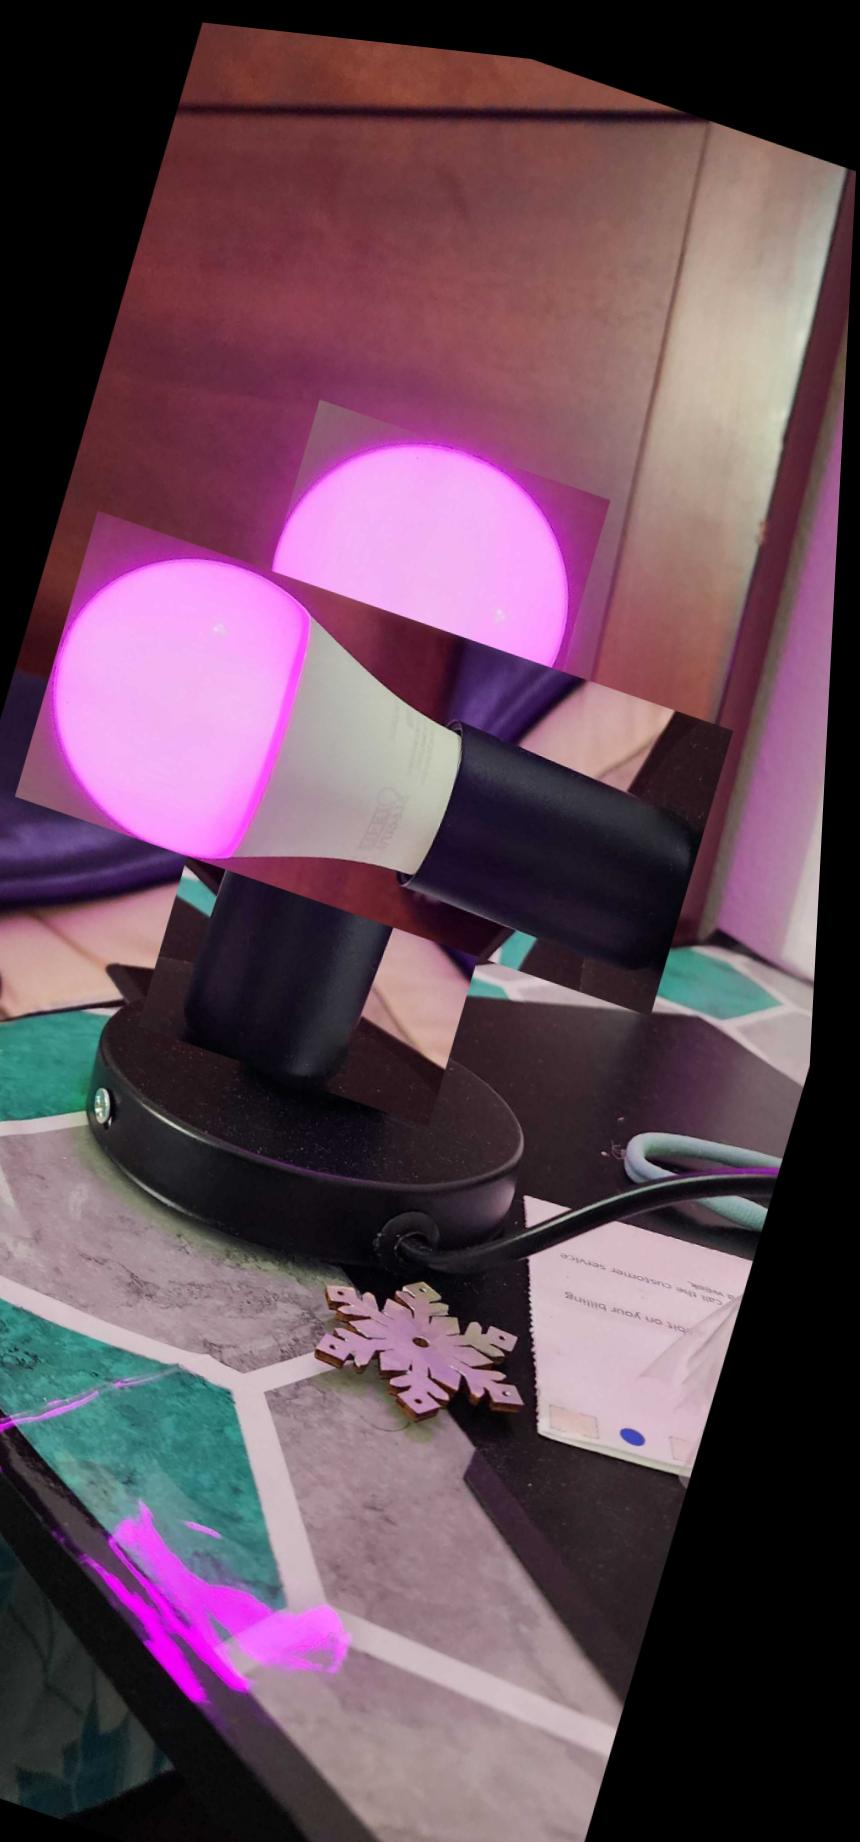TubeLight: (81, 439, 682, 1066)
